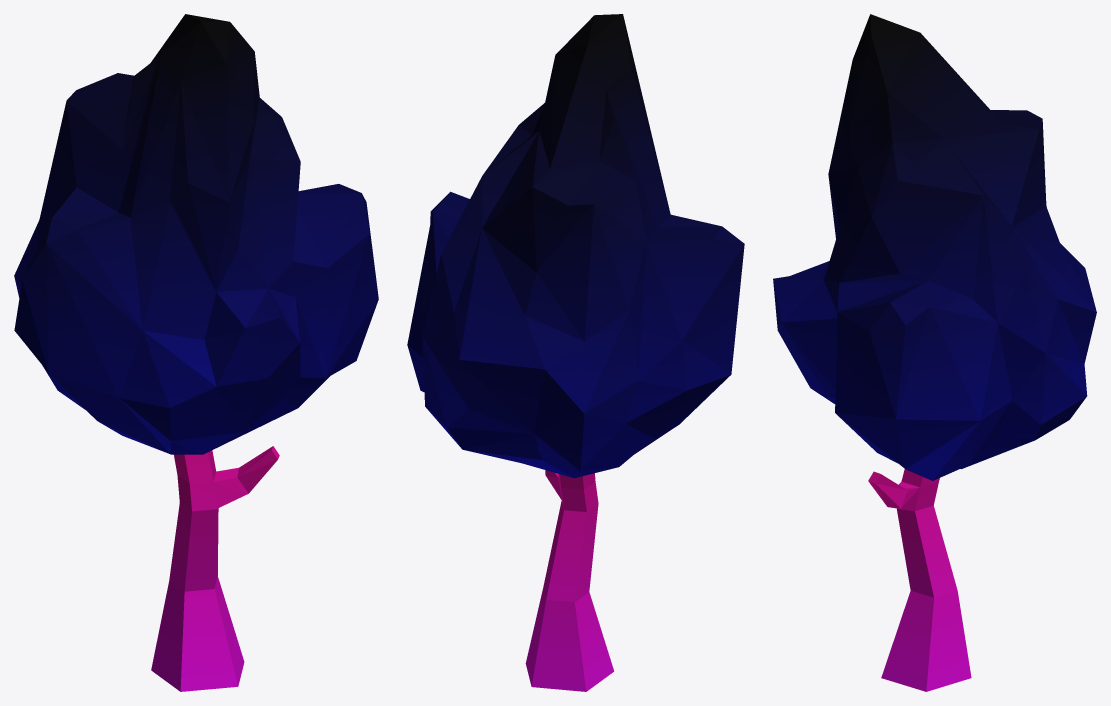
File: synty-tree-01.gltf
The picture shows the model from 3 angles, left to right: view 1: azimuth 30°, elevation 25°; view 2: azimuth 150°, elevation 25°; view 3: azimuth 270°, elevation 25°; orthographic projection. The views are drawn at different scales.
Visible parts, largest first — view 1: SM_Tree_01; view 2: SM_Tree_01; view 3: SM_Tree_01.
Part boxes in pixels (box(x1,y1,x2,y2)): SM_Tree_01: box(14, 14, 378, 691); SM_Tree_01: box(407, 14, 744, 691); SM_Tree_01: box(773, 14, 1096, 691).
Bounding box in the file's own units: 3.18 × 6.21 × 2.83.
